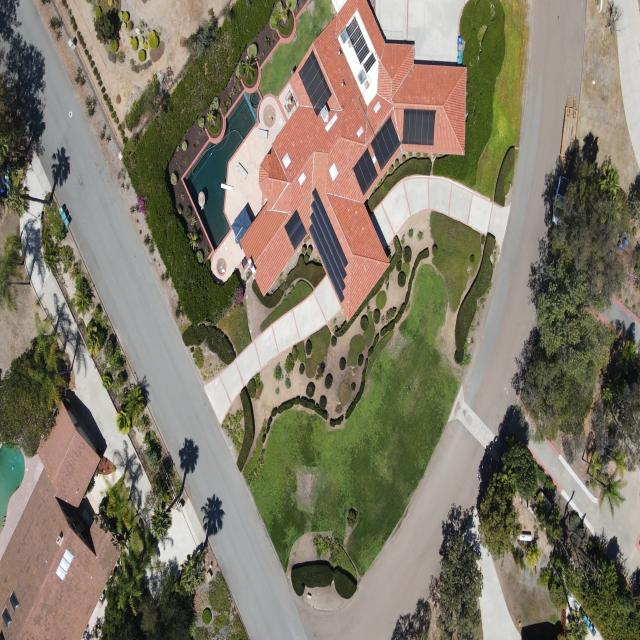solar-panels: (295, 188, 362, 304), (292, 49, 338, 116), (361, 115, 410, 172), (348, 148, 384, 196), (280, 209, 311, 250), (402, 108, 436, 145), (360, 52, 379, 74), (343, 16, 361, 37), (347, 25, 365, 46), (354, 43, 372, 64), (351, 35, 369, 55)
